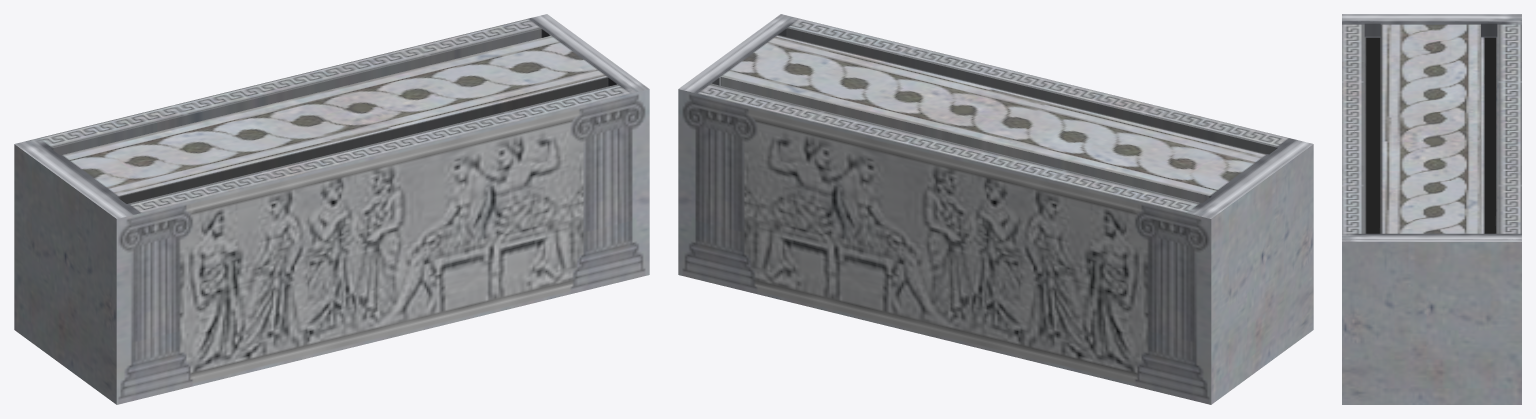
The model's file is Platform2_Set2.fbx.
3 views of the same model, side by side, from view 1: azimuth 30°, elevation 25°; view 2: azimuth 150°, elevation 25°; view 3: azimuth 270°, elevation 25° (orthographic). The views are drawn at different scales.
Visible parts, largest first — view 1: Platform2_Set2; view 2: Platform2_Set2; view 3: Platform2_Set2.
Boxes of the visible parts, x1,y1,x2,y2 form: Platform2_Set2: (14, 14, 649, 404); Platform2_Set2: (678, 14, 1313, 404); Platform2_Set2: (1342, 14, 1521, 404).
Bounding box in the file's own units: 3 × 1 × 1.
